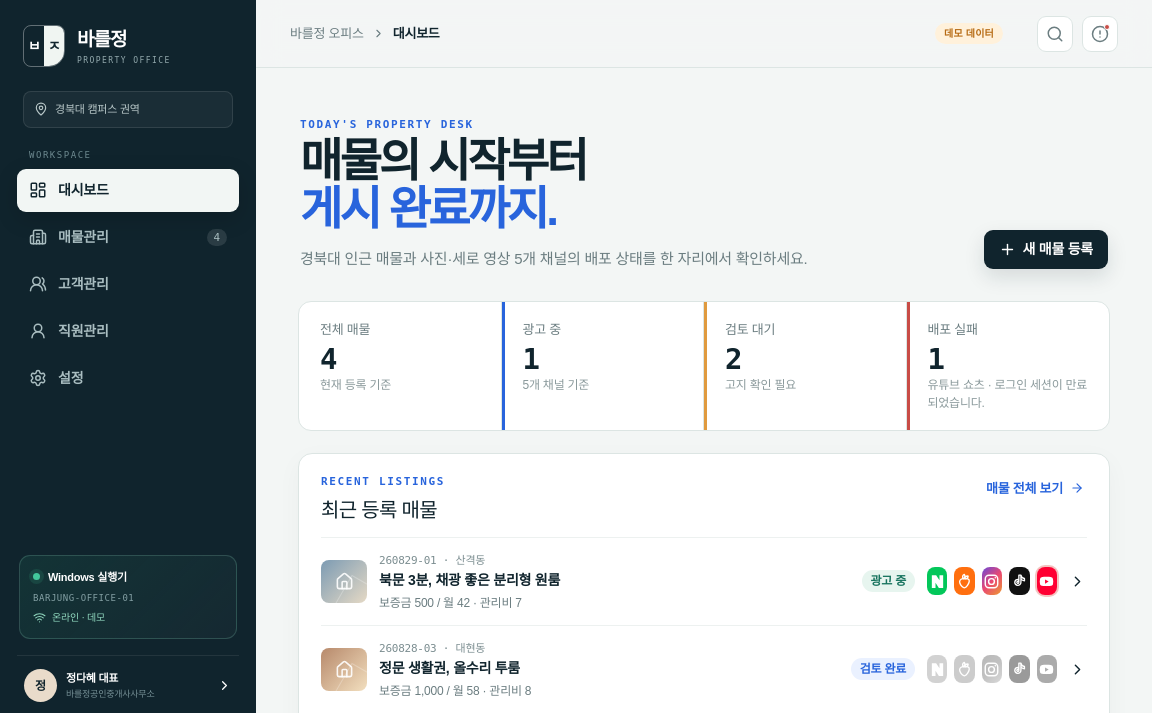
BarjungApp administrator workflows (demo mode) › changes an employee employment status
Expected: the button "고객관리" is shown, [17, 262, 239, 306]
Click the button "직원관리".
click(128, 331)  # box [17, 310, 239, 352]
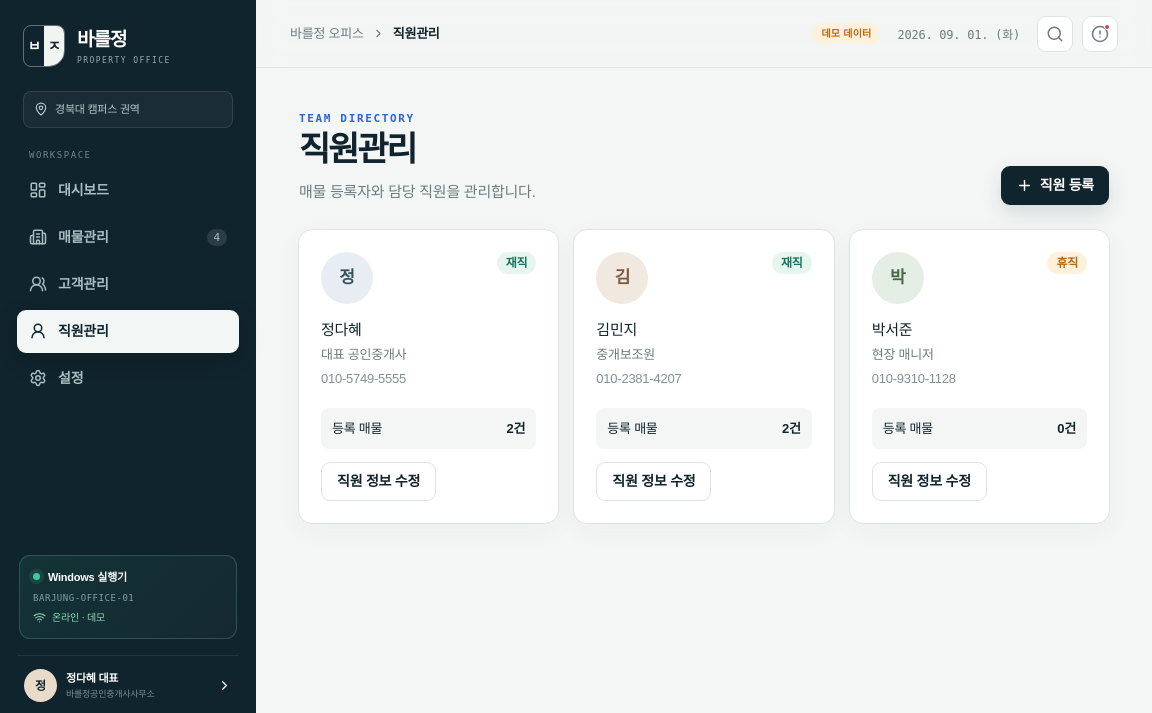
Result: the text "김민지" is shown at [596, 321, 637, 338]
Click the button "직원 정보 수정" below "010-2381-4207".
click(654, 482)  # box [596, 462, 711, 501]
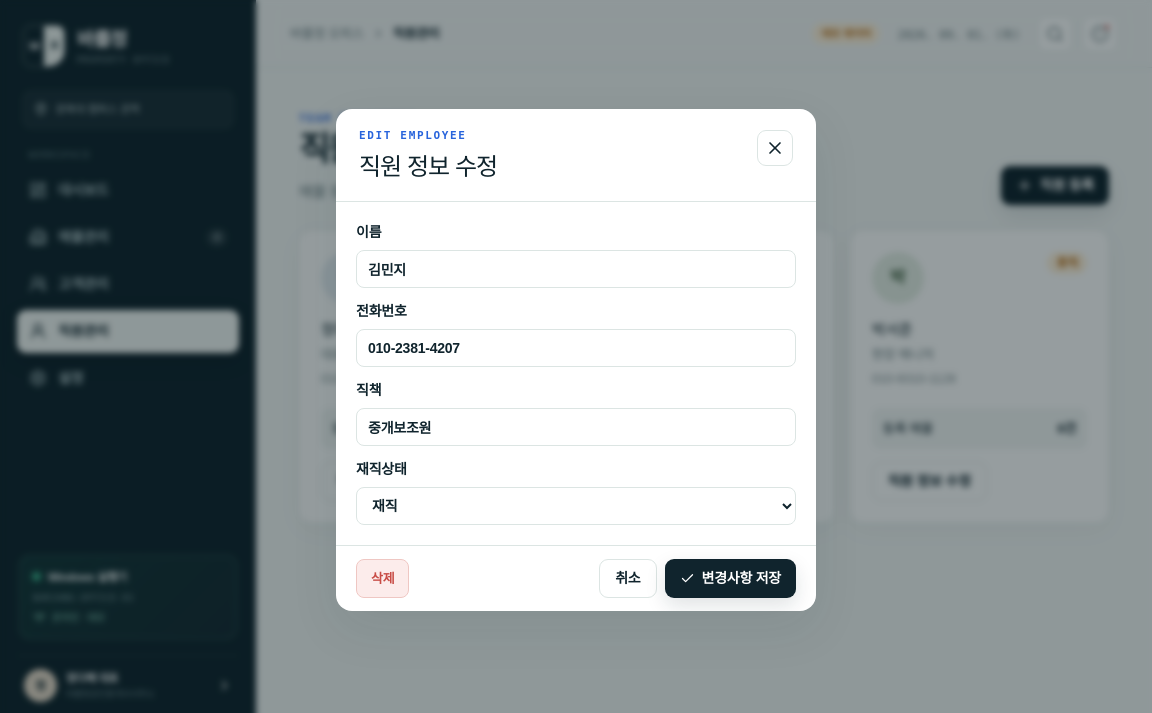
Select "휴직" in the dropdown labelled "재직상태" at (576, 506), box [356, 487, 796, 525]
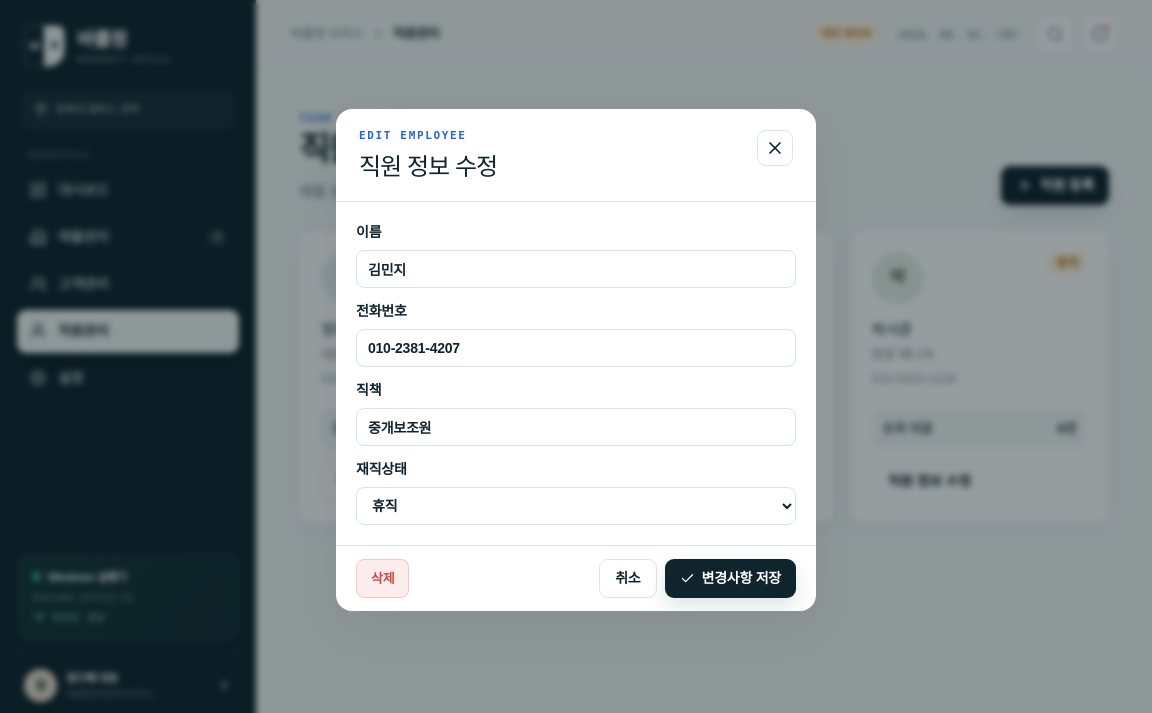
Click the button "변경사항 저장".
click(730, 578)  # box [664, 559, 796, 598]
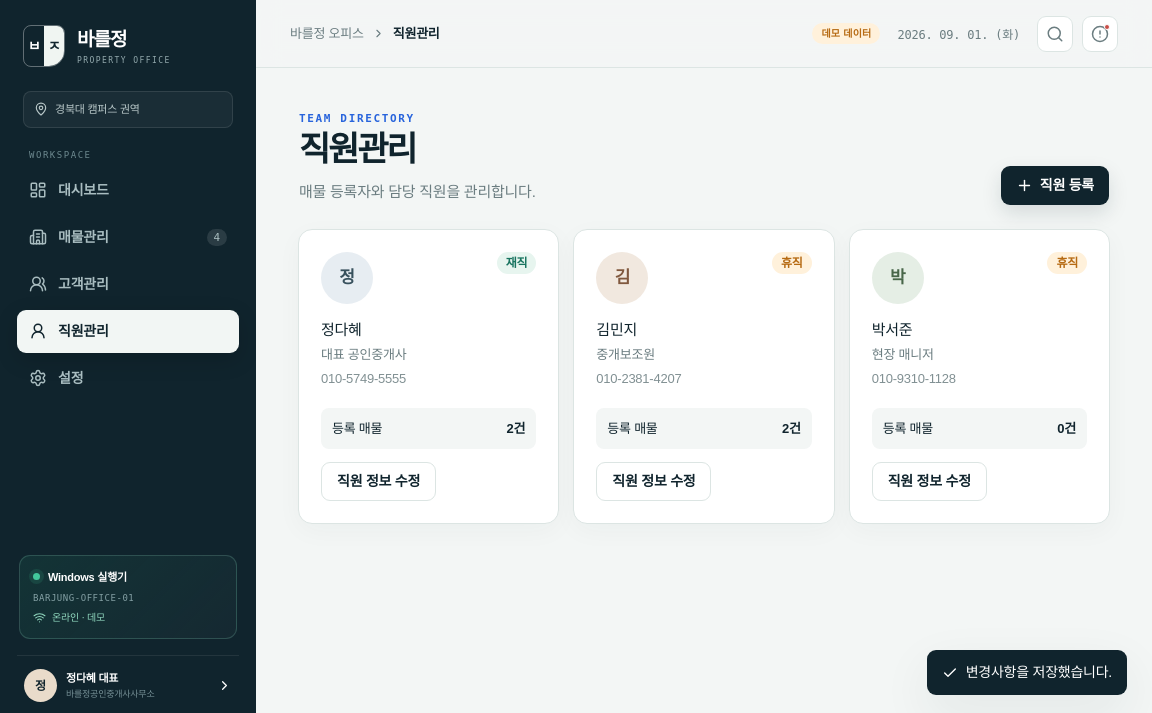
Result: the 1st text "휴직" is shown at [772, 252, 812, 274]
